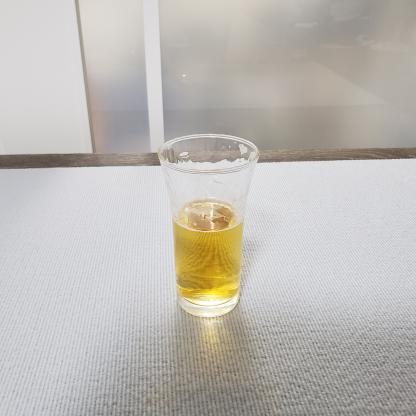glass: (149, 120, 286, 333)
